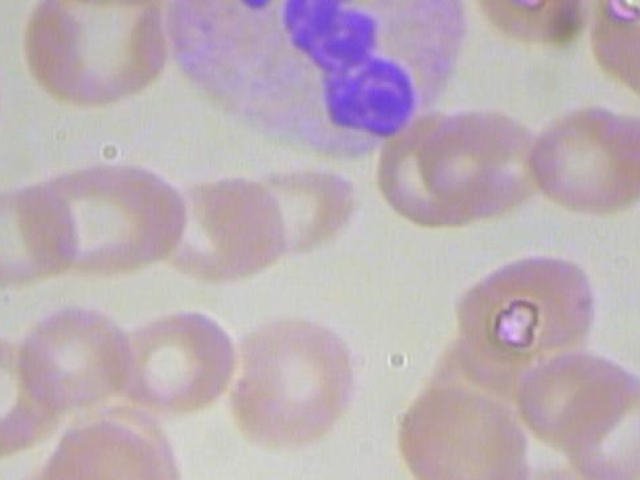RBC: (439, 240, 597, 386), (46, 142, 192, 281), (213, 314, 356, 450), (387, 364, 545, 480), (411, 84, 537, 223), (159, 153, 289, 283), (10, 295, 143, 419), (237, 162, 369, 285), (523, 88, 640, 225), (116, 298, 235, 411), (42, 415, 175, 480), (0, 0, 8, 157)
WBC: (156, 0, 474, 164)
